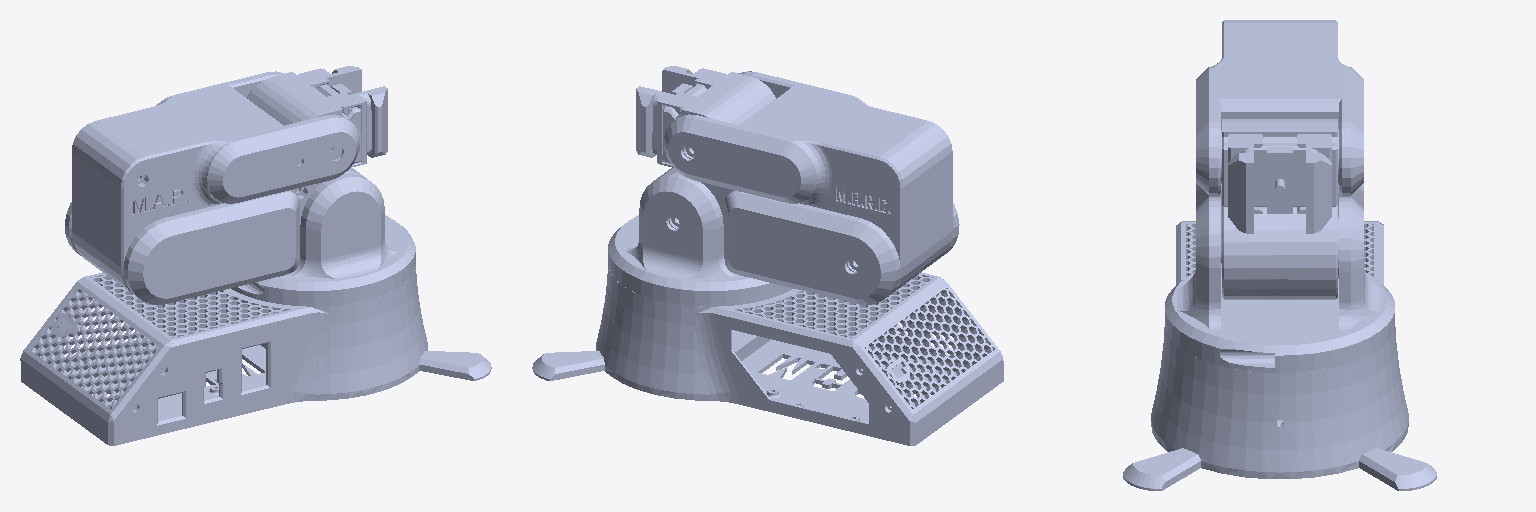
robot.urdf — marc:
<!-- This URDF was automatically created by SolidWorks to URDF Exporter! Originally created by [author] ([email redacted]) 
     Commit Version: 1.6.0-4-g7f85cfe  Build Version: 1.6.7995.38578
     For more information, please see http://wiki.ros.org/sw_urdf_exporter -->
<robot
  name="marc">
  <link name="world"/>

  <joint name="world_joint" type="fixed">
    <parent link="world"/>
    <child link="base_link"/>
    <origin xyz="0 0 0" rpy="0 0 0"/>
  </joint>

  <link
    name="base_link">
    <inertial>
      <origin
        xyz="-0.019326 -0.0015141 0.022149"
        rpy="0 0 0" />
      <mass
        value="0.13112" />
      <inertia
        ixx="0.00013465"
        ixy="-7.8684E-06"
        ixz="-7.1281E-09"
        iyy="0.00021462"
        iyz="2.4514E-06"
        izz="0.0003101" />
    </inertial>
    <visual>
      <origin
        xyz="0 0 0"
        rpy="0 0 0" />
      <geometry>
        <mesh
          filename="package://marc/meshes/base_link.STL" />
      </geometry>
      <material
        name="">
        <color
          rgba="0.79216 0.81961 0.93333 1" />
      </material>
    </visual>
    <collision>
      <origin
        xyz="0 0 0"
        rpy="0 0 0" />
      <geometry>
        <mesh
          filename="package://marc/meshes/base_link.STL" />
      </geometry>
    </collision>
  </link>
  <link
    name="shoulder_link">
    <inertial>
      <origin
        xyz="0.0014606 -0.0022185 0.0033448"
        rpy="0 0 0" />
      <mass
        value="0.055252" />
      <inertia
        ixx="1.5922E-05"
        ixy="1.9743E-08"
        ixz="-8.4955E-08"
        iyy="3.3192E-05"
        iyz="7.5752E-08"
        izz="3.0288E-05" />
    </inertial>
    <visual>
      <origin
        xyz="0 0 0"
        rpy="0 0 0" />
      <geometry>
        <mesh
          filename="package://marc/meshes/shoulder_link.STL" />
      </geometry>
      <material
        name="">
        <color
          rgba="0.79216 0.81961 0.93333 1" />
      </material>
    </visual>
    <collision>
      <origin
        xyz="0 0 0"
        rpy="0 0 0" />
      <geometry>
        <mesh
          filename="package://marc/meshes/shoulder_link.STL" />
      </geometry>
    </collision>
  </link>
  <joint
    name="shoulder_joint"
    type="revolute">
    <origin
      xyz="-0.0020793 0 0.0535"
      rpy="0 0 0" />
    <parent
      link="base_link" />
    <child
      link="shoulder_link" />
    <axis
      xyz="-0.038837 0 0.99925" />
    <limit
      lower="-1.57"
      upper="1.57"
      effort="10.5"
      velocity="1.5" />
  </joint>
  <link
    name="upper_arm_link">
    <inertial>
      <origin
        xyz="-0.044247 -0.034465 -0.00034531"
        rpy="0 0 0" />
      <mass
        value="0.074807" />
      <inertia
        ixx="1.773E-05"
        ixy="-2.1148E-06"
        ixz="-5.6426E-07"
        iyy="8.8688E-05"
        iyz="1.1069E-08"
        izz="8.1791E-05" />
    </inertial>
    <visual>
      <origin
        xyz="0 0 0"
        rpy="0 0 0" />
      <geometry>
        <mesh
          filename="package://marc/meshes/upper_arm_link.STL" />
      </geometry>
      <material
        name="">
        <color
          rgba="0.79216 0.81961 0.93333 1" />
      </material>
    </visual>
    <collision>
      <origin
        xyz="0 0 0"
        rpy="0 0 0" />
      <geometry>
        <mesh
          filename="package://marc/meshes/upper_arm_link.STL" />
      </geometry>
    </collision>
  </link>
  <joint
    name="upper_arm_joint"
    type="revolute">
    <origin
      xyz="0.0020885 0.0295 0.022"
      rpy="0 0 0" />
    <parent
      link="shoulder_link" />
    <child
      link="upper_arm_link" />
    <axis
      xyz="0 -1 0" />
    <limit
      lower="-3.1"
      upper="0"
      effort="10.5"
      velocity="1.5" />
  </joint>
  <link
    name="elbow_link">
    <inertial>
      <origin
        xyz="0.024238 -0.030035 0.02628"
        rpy="0 0 0" />
      <mass
        value="0.068113" />
      <inertia
        ixx="2.9647E-05"
        ixy="-1.2047E-06"
        ixz="-1.1982E-05"
        iyy="8.2704E-05"
        iyz="-1.1176E-07"
        izz="6.1384E-05" />
    </inertial>
    <visual>
      <origin
        xyz="0 0 0"
        rpy="0 0 0" />
      <geometry>
        <mesh
          filename="package://marc/meshes/elbow_link.STL" />
      </geometry>
      <material
        name="">
        <color
          rgba="0.79216 0.81961 0.93333 1" />
      </material>
    </visual>
    <collision>
      <origin
        xyz="0 0 0"
        rpy="0 0 0" />
      <geometry>
        <mesh
          filename="package://marc/meshes/elbow_link.STL" />
      </geometry>
    </collision>
  </link>
  <joint
    name="elbow_joint"
    type="revolute">
    <origin
      xyz="-0.09 0 0"
      rpy="0 0 0" />
    <parent
      link="upper_arm_link" />
    <child
      link="elbow_link" />
    <axis
      xyz="0 -1 0" />
    <limit
      lower="0"
      upper="3.1"
      effort="10.5"
      velocity="1.5" />
  </joint>
  <link
    name="wrist_link">
    <inertial>
      <origin
        xyz="0.0031699 -0.028754 8.9392E-06"
        rpy="0 0 0" />
      <mass
        value="0.027875" />
      <inertia
        ixx="9.2319E-06"
        ixy="-4.769E-07"
        ixz="9.4703E-10"
        iyy="3.9611E-06"
        iyz="-1.3442E-09"
        izz="8.8951E-06" />
    </inertial>
    <visual>
      <origin
        xyz="0 0 0"
        rpy="0 0 0" />
      <geometry>
        <mesh
          filename="package://marc/meshes/wrist_link.STL" />
      </geometry>
      <material
        name="">
        <color
          rgba="0.79216 0.81961 0.93333 1" />
      </material>
    </visual>
    <collision>
      <origin
        xyz="0 0 0"
        rpy="0 0 0" />
      <geometry>
        <mesh
          filename="package://marc/meshes/wrist_link.STL" />
      </geometry>
    </collision>
  </link>
  <joint
    name="wrist_joint"
    type="revolute">
    <origin
      xyz="0.082703 0 0.0355"
      rpy="0 0 0" />
    <parent
      link="elbow_link" />
    <child
      link="wrist_link" />
    <axis
      xyz="0 1 0" />
    <limit
      lower="-1.57"
      upper="1.57"
      effort="10.5"
      velocity="1.5" />
  </joint>
  <link
    name="ee_link">
    <inertial>
      <origin
        xyz="-0.0057014 1.249E-16 -0.00036353"
        rpy="0 0 0" />
      <mass
        value="0.010567" />
      <inertia
        ixx="9.4856E-07"
        ixy="2.2264E-21"
        ixz="1.3268E-09"
        iyy="1.2637E-06"
        iyz="8.2213E-21"
        izz="4.7796E-07" />
    </inertial>
    <visual>
      <origin
        xyz="0 0 0"
        rpy="0 0 0" />
      <geometry>
        <mesh
          filename="package://marc/meshes/ee_link.STL" />
      </geometry>
      <material
        name="">
        <color
          rgba="0.79216 0.81961 0.93333 1" />
      </material>
    </visual>
    <collision>
      <origin
        xyz="0 0 0"
        rpy="0 0 0" />
      <geometry>
        <mesh
          filename="package://marc/meshes/ee_link.STL" />
      </geometry>
    </collision>
  </link>
  <joint
    name="ee_joint"
    type="fixed">
    <origin
      xyz="0.031 -0.0295 8.7404E-05"
      rpy="0 0 0" />
    <parent
      link="wrist_link" />
    <child
      link="ee_link" />
    <axis
      xyz="0 0 0" />
    <limit
      lower="0"
      upper="0"
      effort="0"
      velocity="0" />
  </joint>
  
  <link name="ee_rotation_x"/>
  <joint name="ee_rotation_joint_x" type="revolute">
    <origin xyz="0 0 0" rpy="0 0 0"/>
    <parent link="ee_link"/>
    <child link="ee_rotation_x"/>
    <axis xyz="1 0 0"/>
    <limit lower="-3.1416" upper="3.1416" effort="10.5" velocity="1.5"/>
  </joint>

  <link name="ee_rotation_z"/>
  <joint name="ee_rotation_joint_z" type="revolute">
    <origin xyz="0 0 0" rpy="0 0 0"/>
    <parent link="ee_rotation_x"/>
    <child link="ee_rotation_z"/>
    <axis xyz="0 0 1"/>
    <limit lower="-3.1416" upper="3.1416" effort="10.5" velocity="1.5"/>
  </joint>

</robot>

--- Facts derived from the render (not from the file) ---
3 views of the same robot in one strip: view 1: azimuth 30°, elevation 25°; view 2: azimuth 150°, elevation 25°; view 3: azimuth 270°, elevation 25° (orthographic).
Model marc with 9 links and 8 joints (6 revolute, 2 fixed), rooted at world, posed every joint at zero.
Links seen in each view (by area): view 1: base_link, elbow_link, upper_arm_link, shoulder_link, wrist_link, ee_link; view 2: base_link, elbow_link, upper_arm_link, shoulder_link, wrist_link, ee_link; view 3: base_link, shoulder_link, elbow_link, upper_arm_link, ee_link, wrist_link.
Boxes of the visible links, box(x1,y1,x2,y2) form: base_link: box(20, 267, 491, 445); elbow_link: box(72, 71, 359, 293); upper_arm_link: box(65, 168, 365, 304); shoulder_link: box(231, 173, 415, 306); wrist_link: box(247, 72, 361, 163); ee_link: box(298, 66, 387, 167); base_link: box(532, 267, 1003, 445); elbow_link: box(664, 71, 952, 293); upper_arm_link: box(658, 168, 959, 304); shoulder_link: box(608, 173, 793, 306); wrist_link: box(662, 72, 775, 163); ee_link: box(636, 66, 726, 167); base_link: box(1123, 221, 1436, 490); shoulder_link: box(1165, 197, 1394, 372); elbow_link: box(1196, 20, 1363, 195); upper_arm_link: box(1196, 183, 1363, 299); ee_link: box(1228, 134, 1331, 233); wrist_link: box(1221, 119, 1338, 206).
Size in the robot's own frame: 0.187 by 0.1219 by 0.126 metres.
Meshes: 6 distinct files referenced, 6 mesh visuals loaded (6 binary STL).
